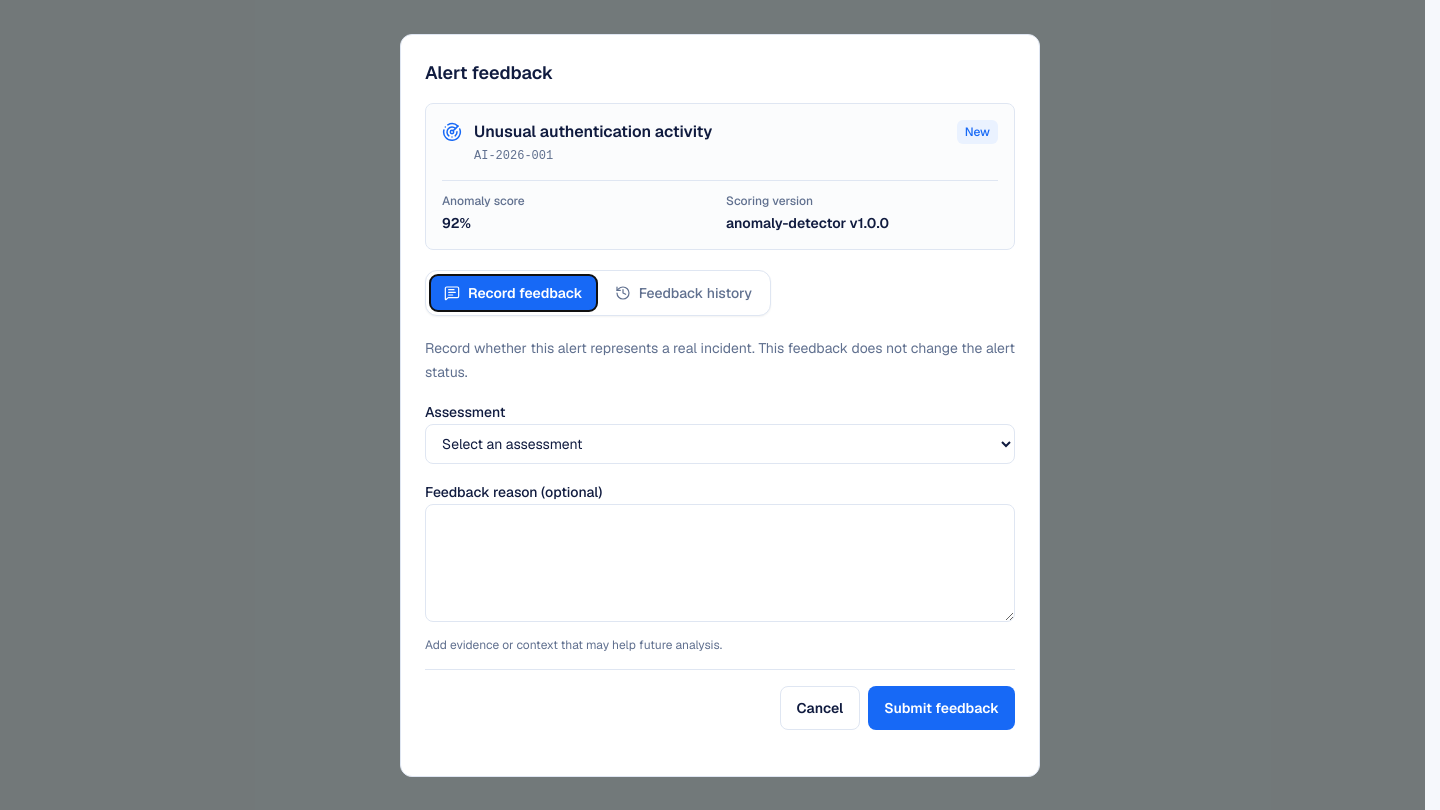
EvaluateAlertReliabilityDialog › requires an assessment
Click the button "Submit feedback" at [942, 708], box [868,686,1015,730]
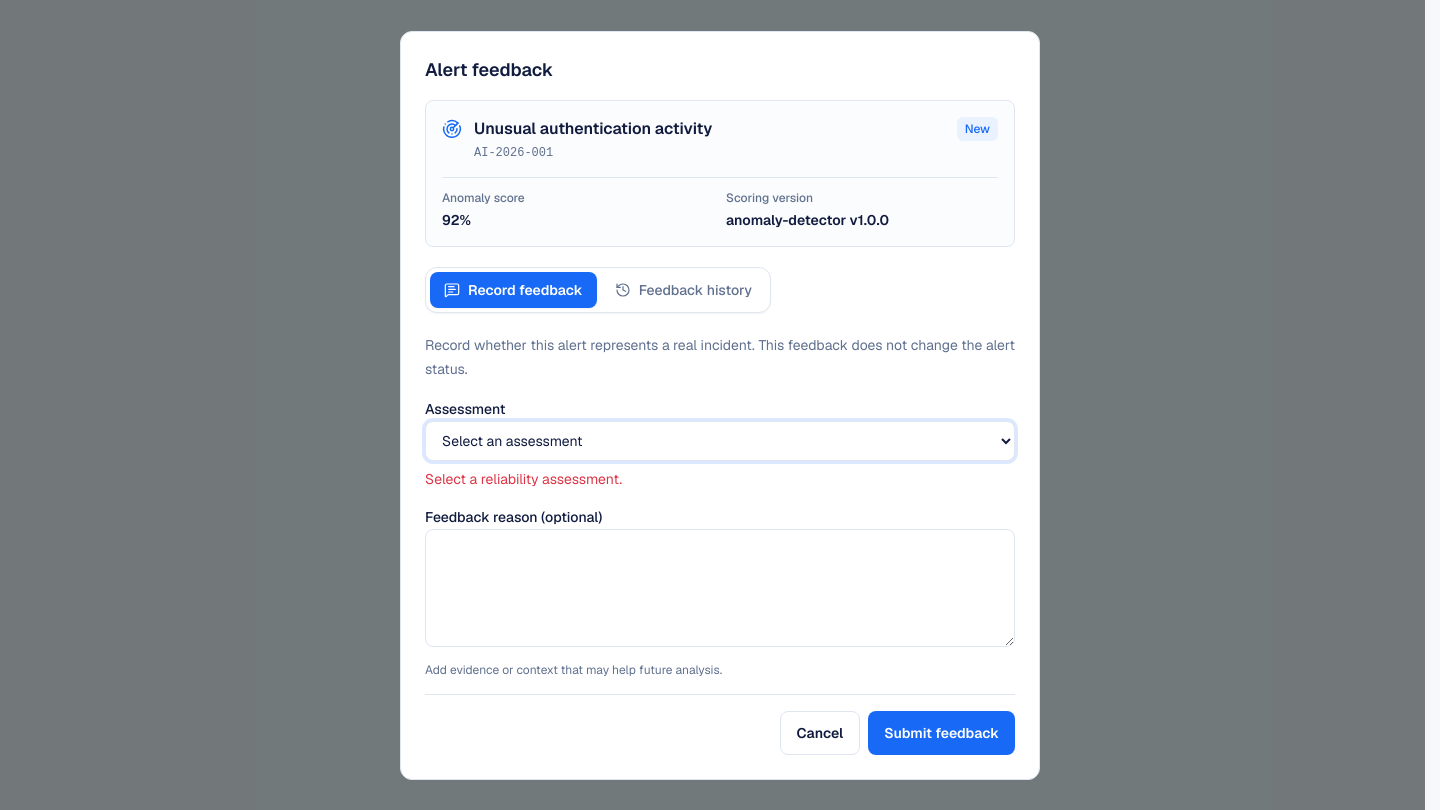
Expected: the text "Select a reliability assessment." is shown, [425,470,622,488]
